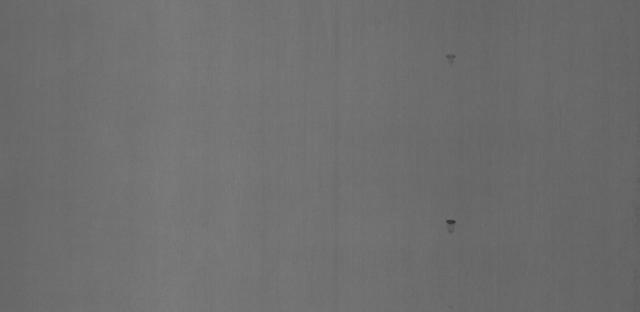inclusion: (445, 218, 457, 236), (445, 51, 456, 66)
